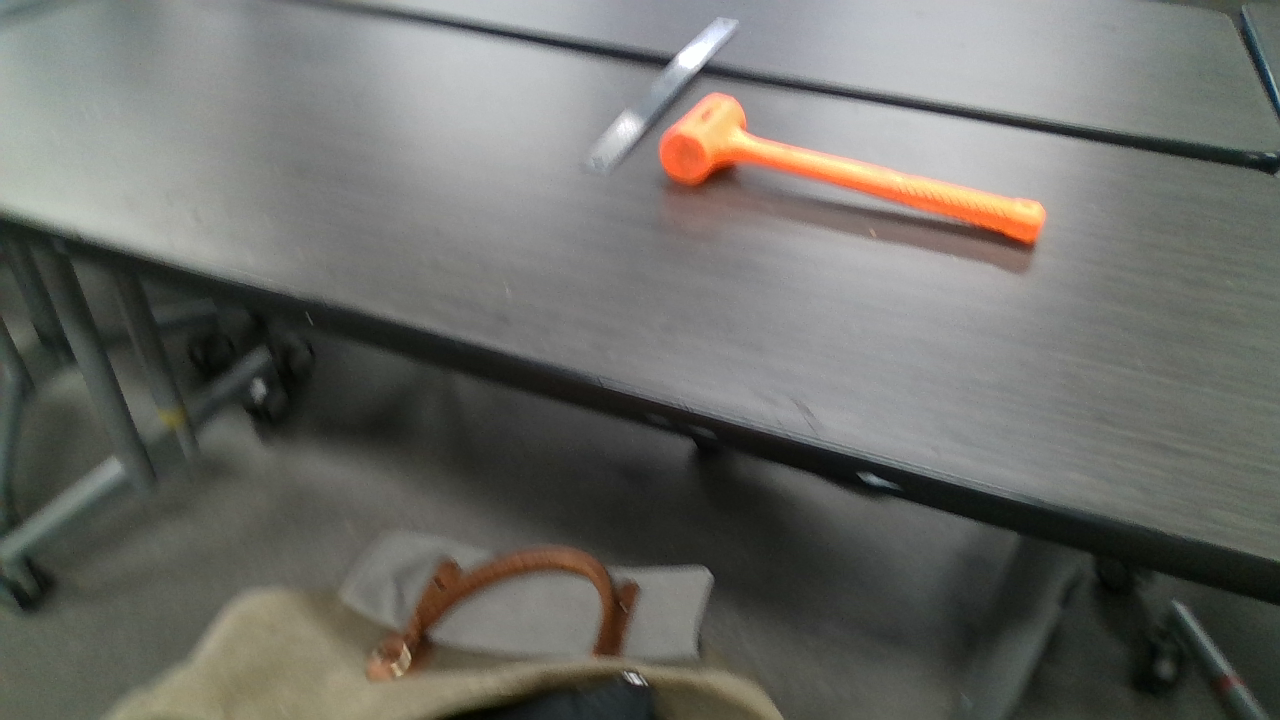Orange Hammer: (663, 92, 1043, 242)
